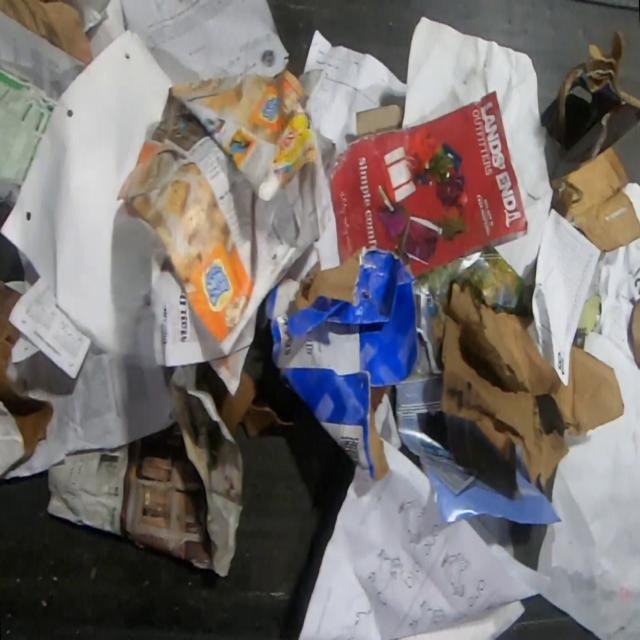cardboard: (430, 279, 625, 503), (257, 240, 421, 482), (550, 27, 640, 164), (548, 143, 639, 253), (0, 279, 54, 464), (9, 276, 92, 381), (0, 63, 58, 208), (0, 0, 95, 66), (217, 367, 296, 440), (0, 399, 26, 479), (356, 103, 403, 138), (11, 332, 40, 363), (629, 294, 639, 369)
